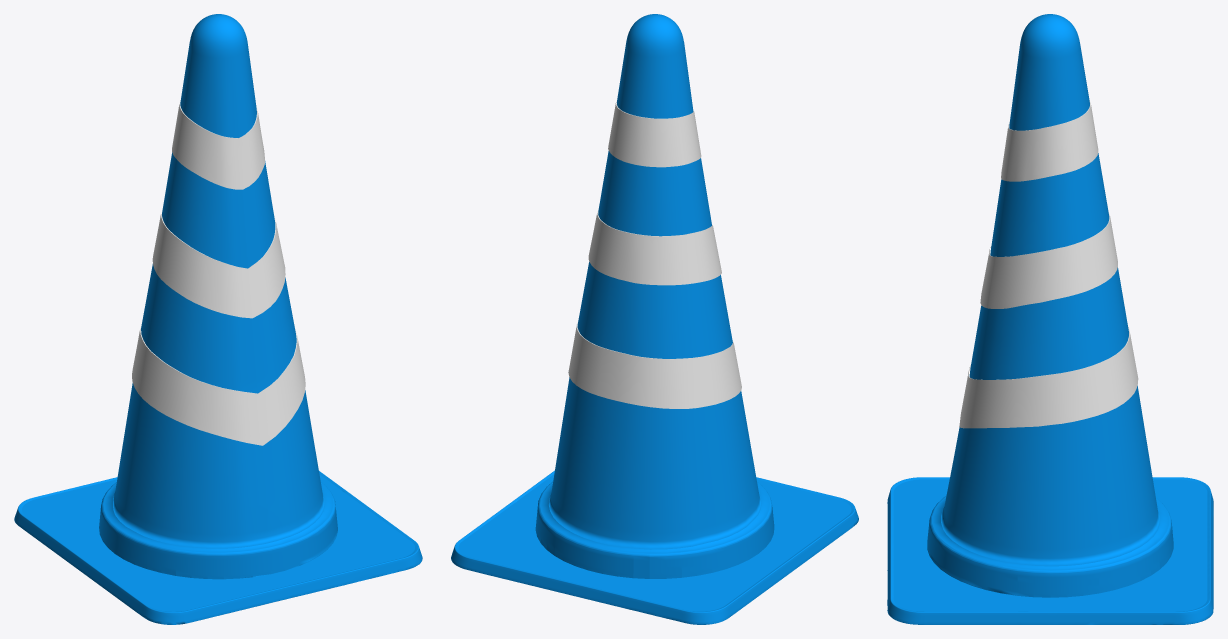
File: Preset_ScotCone_BLU.fbx
The picture shows the model from 3 angles, left to right: view 1: azimuth 30°, elevation 25°; view 2: azimuth 150°, elevation 25°; view 3: azimuth 270°, elevation 25°; orthographic projection. The views are drawn at different scales.
Parts seen in each view (by area): view 1: c_upper, c_bottom, bottom, c_middle, middle, c_bottom2, upper; view 2: c_upper, c_bottom, bottom, c_middle, c_bottom2, middle, upper; view 3: c_upper, c_bottom, bottom, c_middle, middle, c_bottom2, upper.
Part boxes in pixels (bbox=[...]): c_upper: bbox=[113, 14, 324, 548]; c_bottom: bbox=[22, 475, 414, 611]; bottom: bbox=[132, 320, 305, 445]; c_middle: bbox=[99, 482, 337, 579]; middle: bbox=[152, 207, 285, 318]; c_bottom2: bbox=[14, 471, 422, 624]; upper: bbox=[172, 99, 264, 189]; c_upper: bbox=[549, 14, 761, 549]; c_bottom: bbox=[458, 474, 851, 611]; bottom: bbox=[568, 322, 741, 408]; c_middle: bbox=[535, 481, 774, 578]; c_bottom2: bbox=[451, 470, 858, 624]; middle: bbox=[588, 210, 721, 285]; upper: bbox=[608, 101, 701, 167]; c_upper: bbox=[941, 14, 1159, 566]; c_bottom: bbox=[893, 479, 1207, 611]; bottom: bbox=[959, 326, 1138, 428]; c_middle: bbox=[927, 496, 1173, 597]; middle: bbox=[980, 213, 1117, 308]; c_bottom2: bbox=[887, 477, 1213, 624]; upper: bbox=[1001, 101, 1098, 181].
Size of the model in its own units: 38.28 by 38.28 by 69.87.
